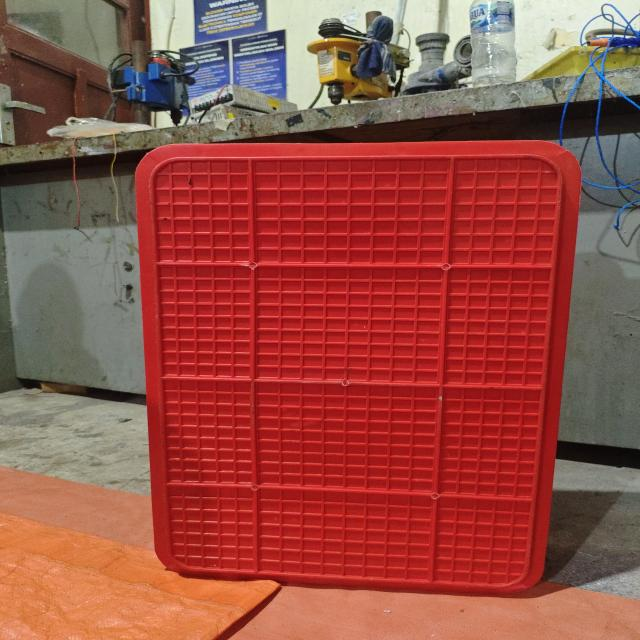red plastic box: (134, 140, 582, 594)
